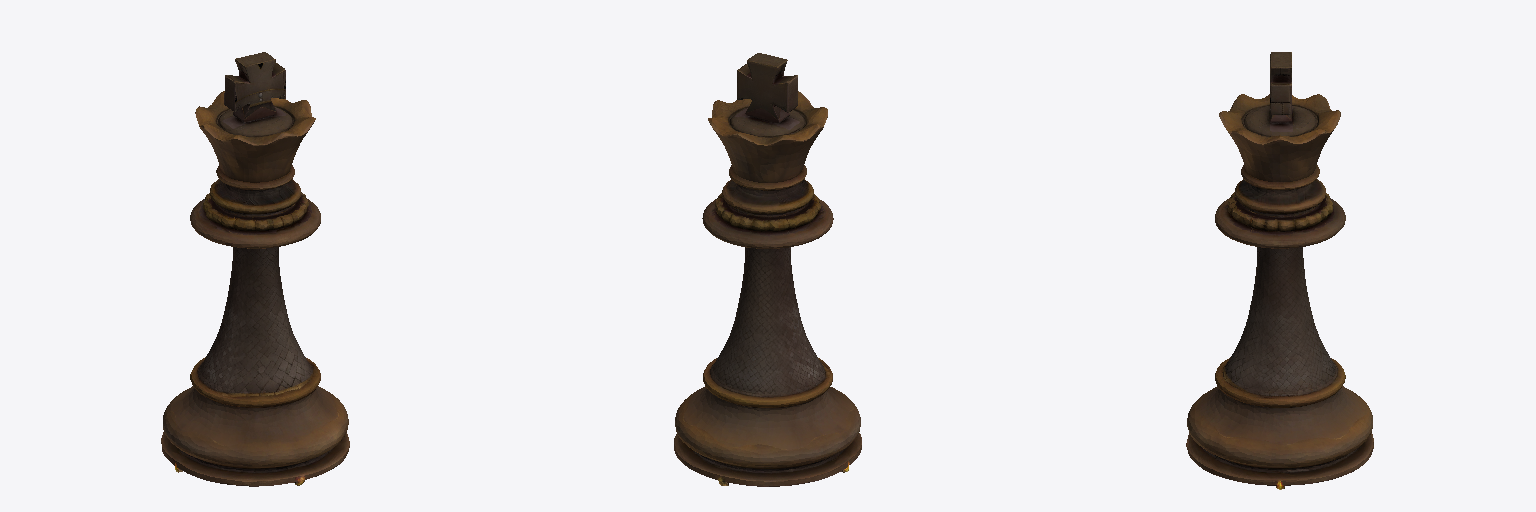
3 views of the same model, side by side, from view 1: azimuth 30°, elevation 25°; view 2: azimuth 150°, elevation 25°; view 3: azimuth 270°, elevation 25° (orthographic).
Visible parts, largest first — view 1: so_we_want_to_make_a__[number redacted]_texture; view 2: so_we_want_to_make_a__[number redacted]_texture; view 3: so_we_want_to_make_a__[number redacted]_texture.
Part boxes in pixels (left/top/right/bottom): so_we_want_to_make_a__[number redacted]_texture: left=161, top=52, right=349, bottom=486; so_we_want_to_make_a__[number redacted]_texture: left=674, top=53, right=861, bottom=486; so_we_want_to_make_a__[number redacted]_texture: left=1186, top=52, right=1373, bottom=489.
Size of the model in its own units: 0.8615 by 2 by 0.8655.
Materials: 1 (1 with a texture image).